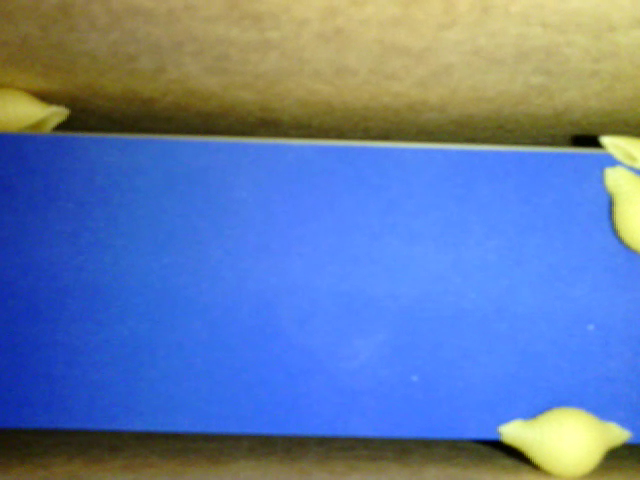penne: (598, 129, 639, 166)
shell: (498, 407, 633, 479), (598, 164, 639, 257), (1, 90, 75, 135)
